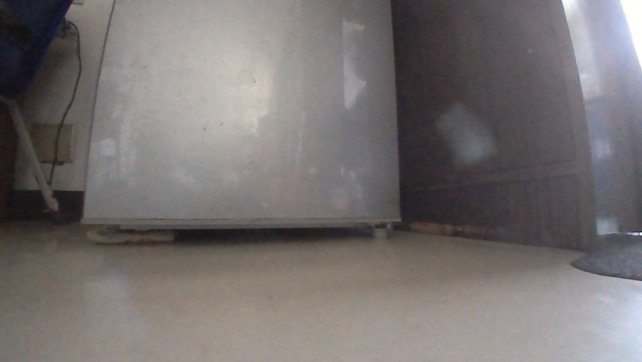refrigerator1: (79, 0, 405, 245)
wire: (45, 17, 82, 185)
